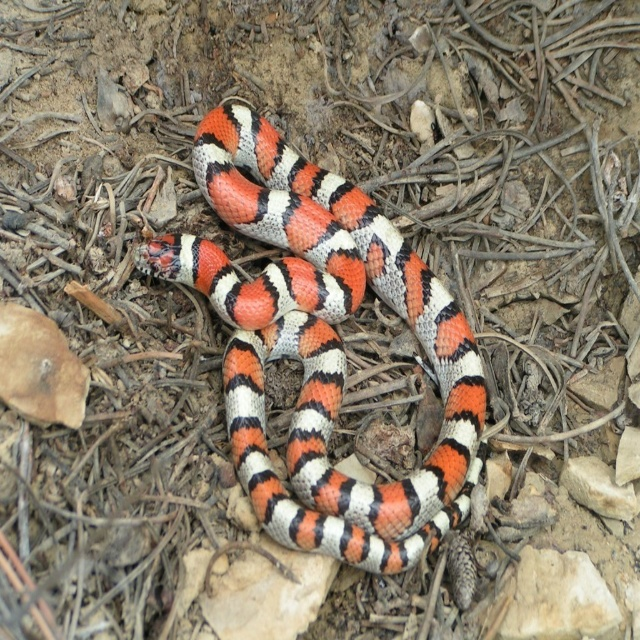Snake: (132, 96, 488, 575)
